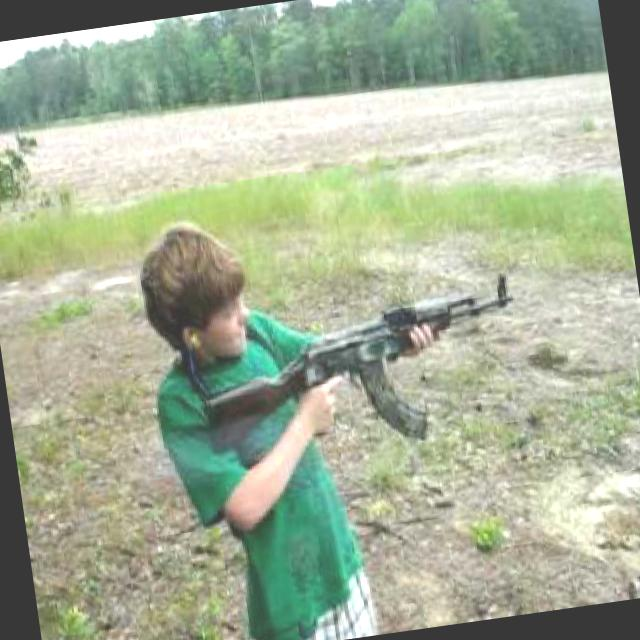long weapon: (168, 264, 536, 468)
